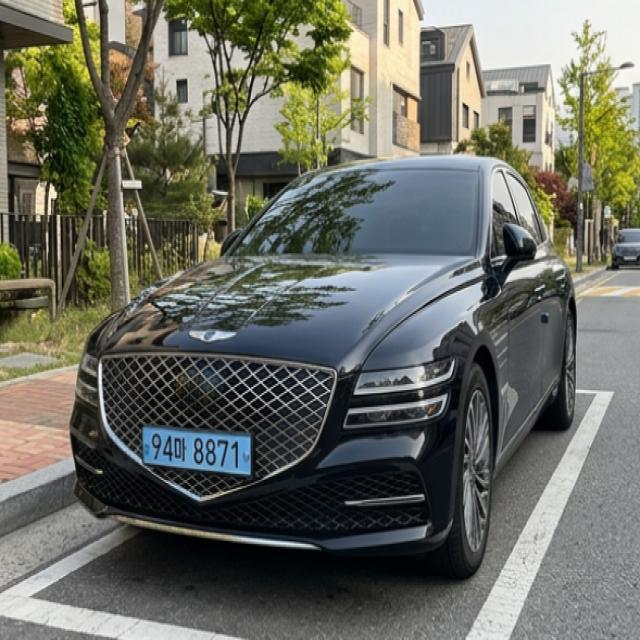car: (129, 418, 268, 484)
carev: (241, 423, 256, 486), (138, 420, 152, 478)
